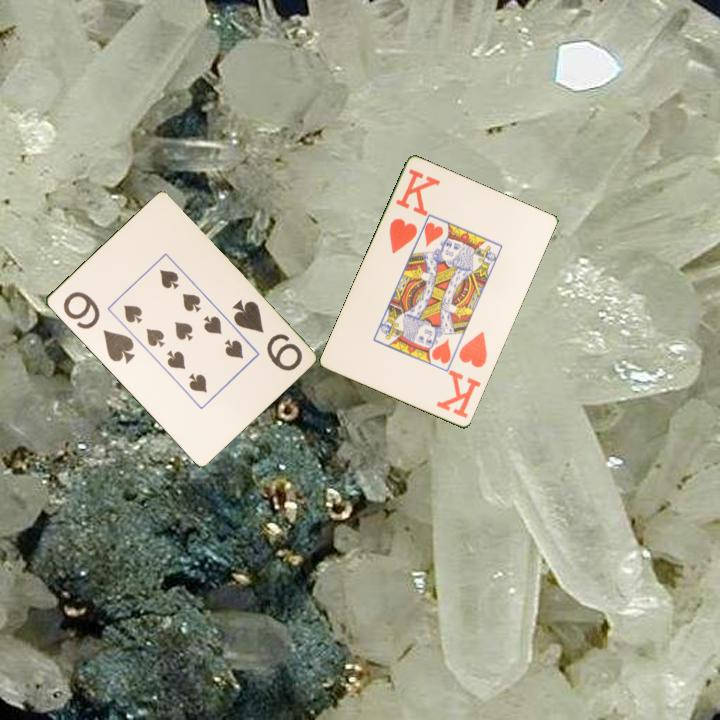9s: (59, 288, 138, 367), (228, 295, 305, 374)
Kh: (433, 328, 490, 421), (385, 166, 443, 257)
